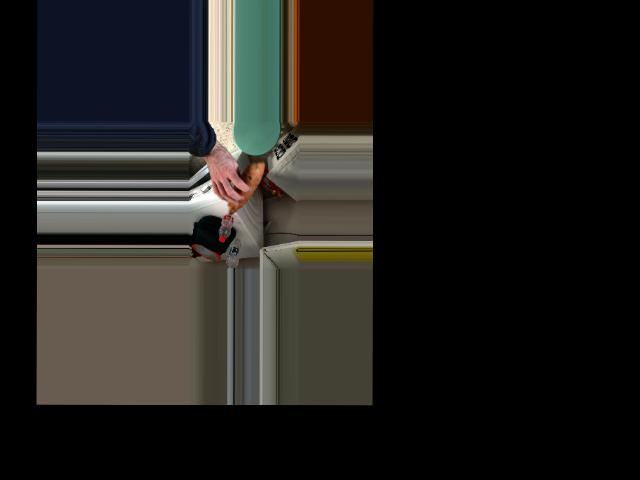sweet_potato: (221, 169, 264, 213)
